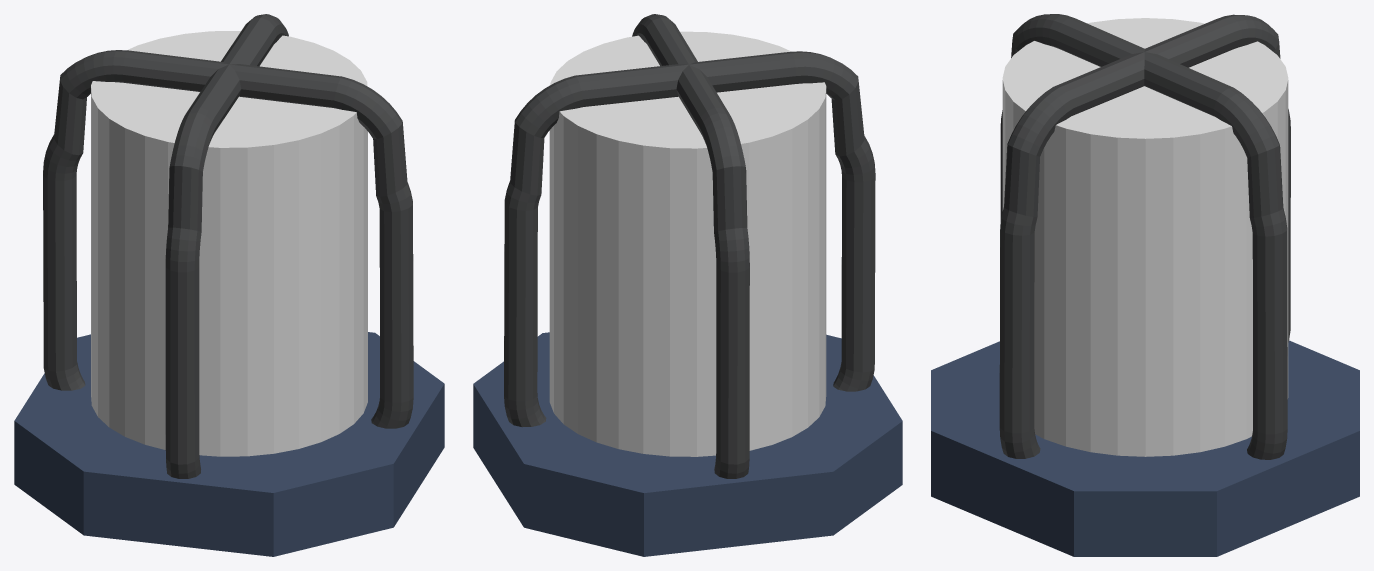
The model's file is AlarmLightwanim.fbx.
3 views of the same model, side by side, from view 1: azimuth 30°, elevation 25°; view 2: azimuth 150°, elevation 25°; view 3: azimuth 270°, elevation 25° (orthographic). The views are drawn at different scales.
Parts seen in each view (by area): view 1: Cube, Cube.001; view 2: Cube, Cube.001; view 3: Cube, Cube.001.
Part boxes in pixels (bbox=[...]): Cube: bbox=[14, 14, 444, 556]; Cube.001: bbox=[91, 31, 367, 456]; Cube: bbox=[473, 14, 902, 556]; Cube.001: bbox=[549, 31, 826, 456]; Cube: bbox=[931, 14, 1359, 556]; Cube.001: bbox=[1002, 18, 1288, 456].
Bounding box in the file's own units: 600 × 639 × 600.
